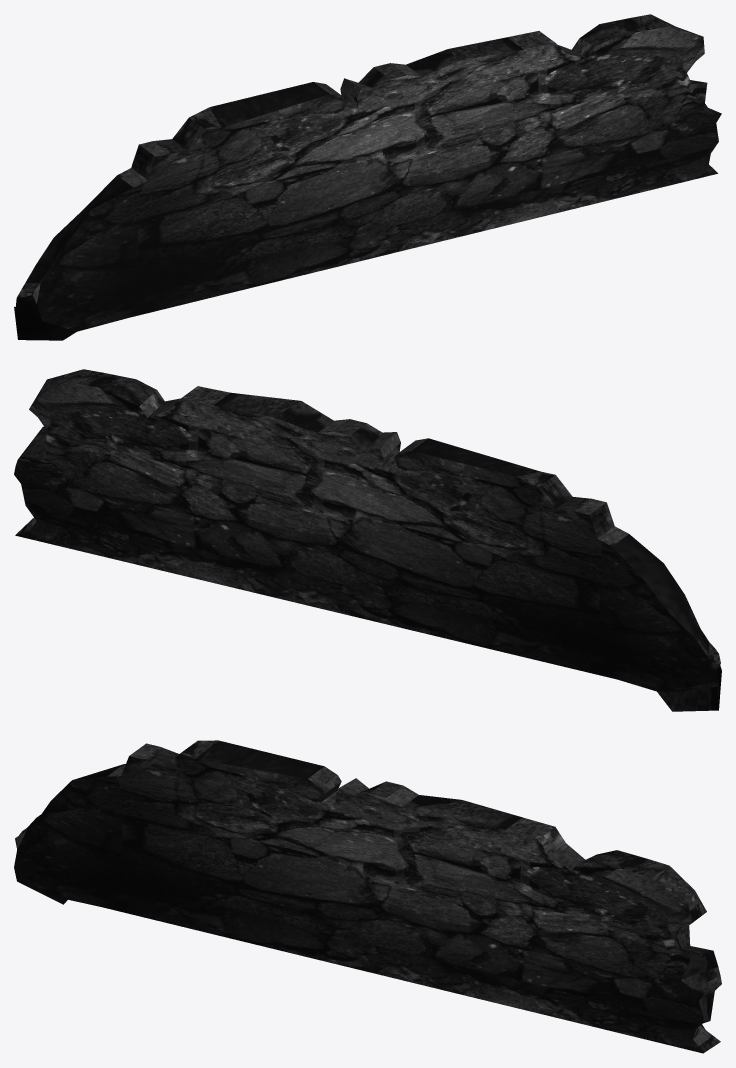
Rendered from RuinI.FBX.
The picture shows the model from 3 angles, top to bottom: view 1: azimuth 30°, elevation 25°; view 2: azimuth 150°, elevation 25°; view 3: azimuth 330°, elevation 25°; orthographic projection. The views are drawn at different scales.
Parts seen in each view (by area): view 1: Line001; view 2: Line001; view 3: Line001.
Boxes of the visible parts, x1,y1,x2,y2 form: Line001: (14,14,721,340); Line001: (14,369,721,711); Line001: (14,740,721,1053).
Bounding box in the file's own units: 330 × 91.29 × 21.66.
Materials: 1 (1 with a texture image).
